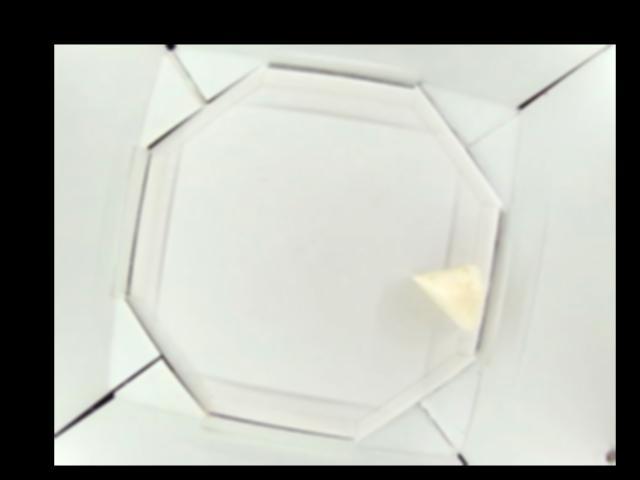Mooli: (415, 262, 479, 332)
